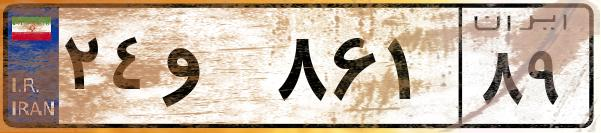1: (385, 28, 445, 110)
2: (57, 26, 110, 100)
4: (110, 28, 158, 98)
6: (330, 28, 385, 110)
8: (270, 28, 330, 110), (475, 38, 525, 113)
9: (525, 38, 570, 115)
و: (158, 20, 270, 120)
